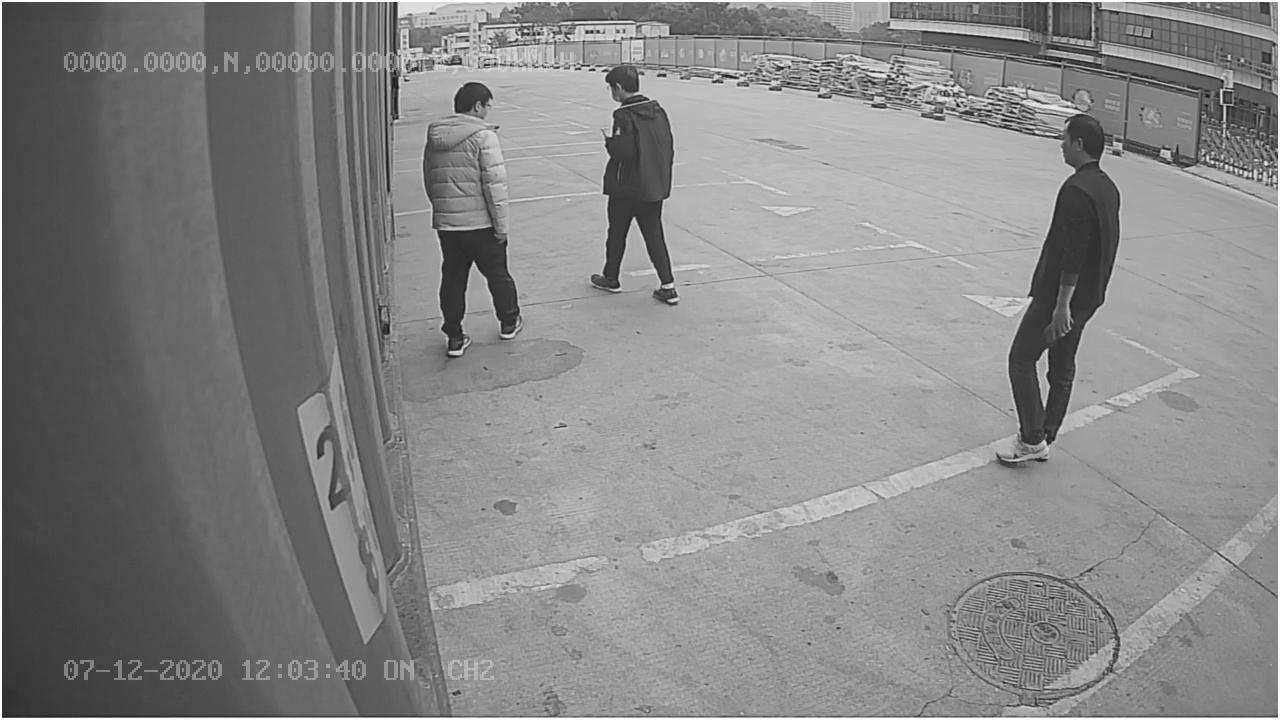person: (986, 102, 1129, 488), (419, 73, 527, 362), (580, 56, 688, 306)
